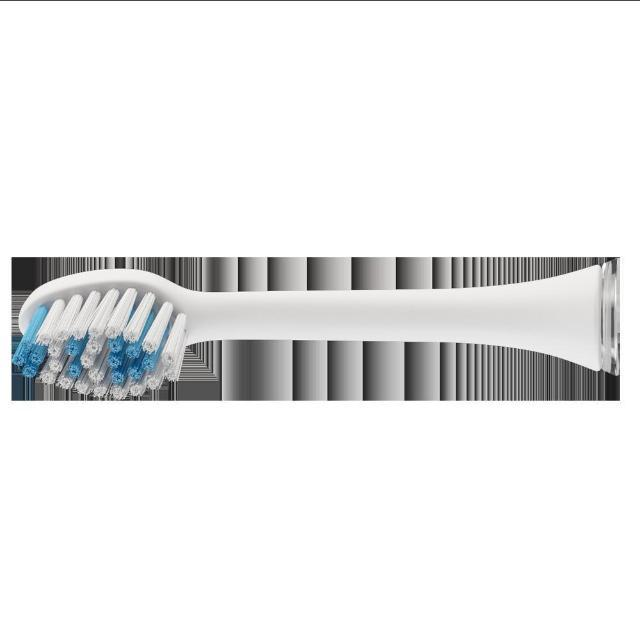toothbrush: (10, 263, 640, 403)
